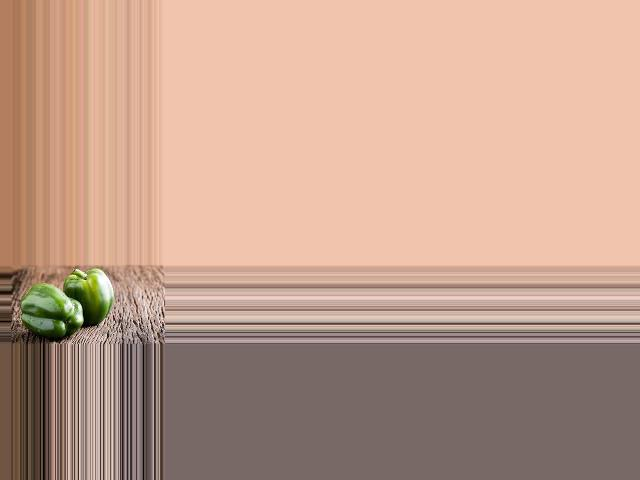bell_pepper: (21, 282, 86, 336)
